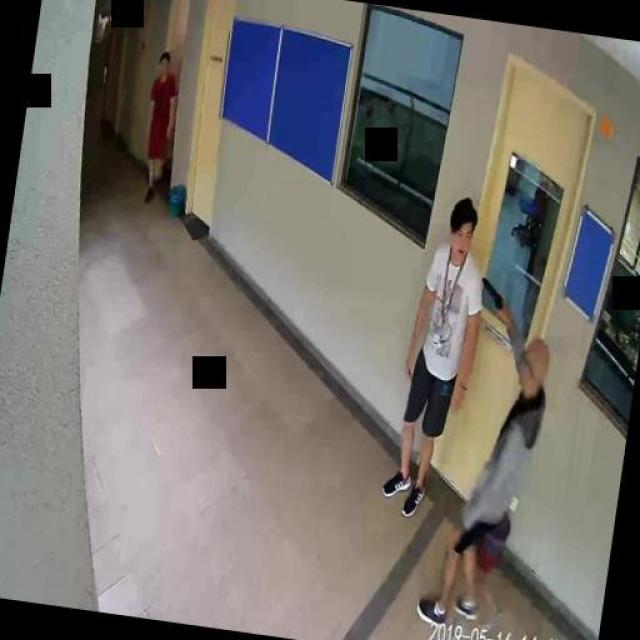gun: (477, 275, 508, 319)
